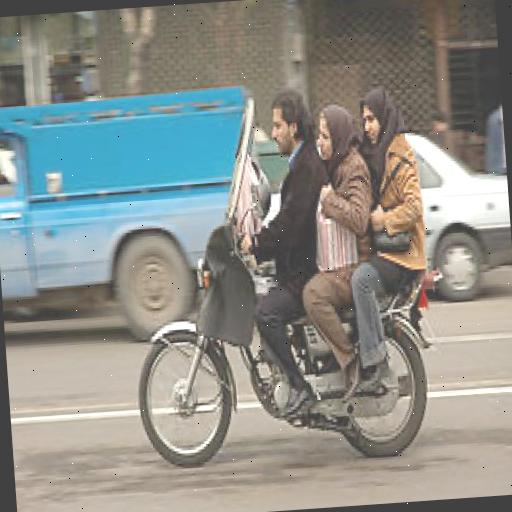no helmet: (260, 75, 318, 174)
triple riding: (235, 30, 468, 420)
